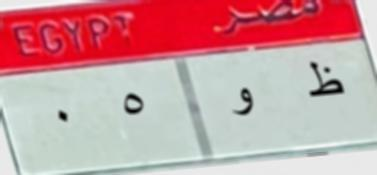0: (44, 102, 84, 135)
5: (108, 84, 160, 130)
Thaa: (295, 50, 352, 110)
waw: (212, 83, 264, 126)
